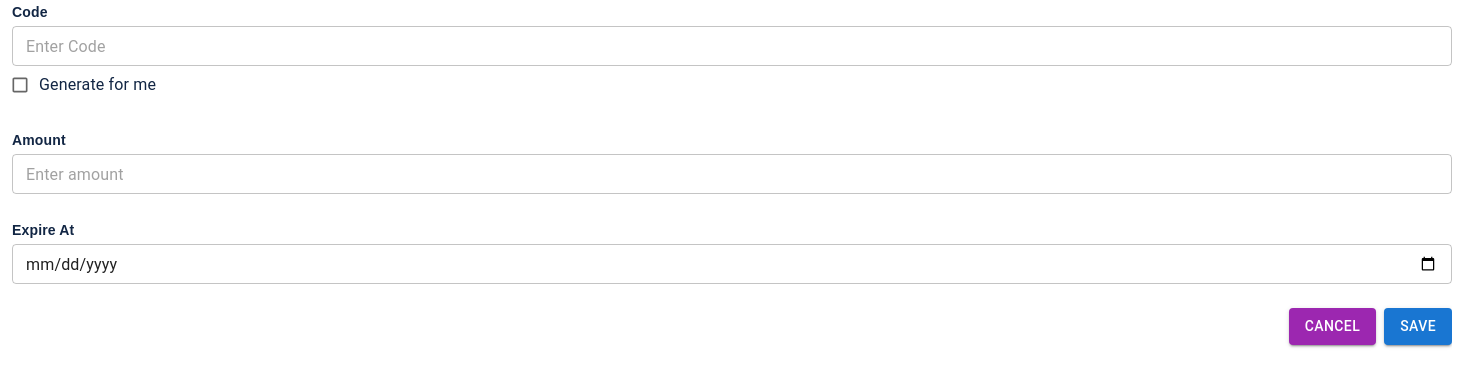
Test case: Voucher form › 409 duplicate_code is shown on the code field, with no pre-check request
Type "SUMMER" into the field with placeholder "Enter Code".
click(732, 46); type("SUMMER")  # box x1=12 y1=26 x2=1452 y2=66
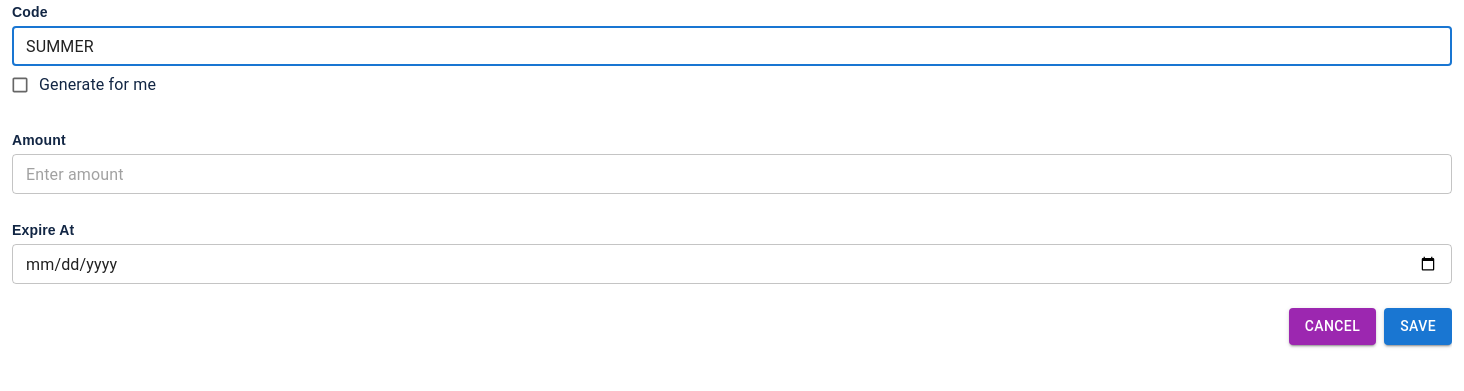
Type "10" into the number field with placeholder "Enter amount".
click(721, 174); type("10")  # box x1=12 y1=154 x2=1430 y2=194
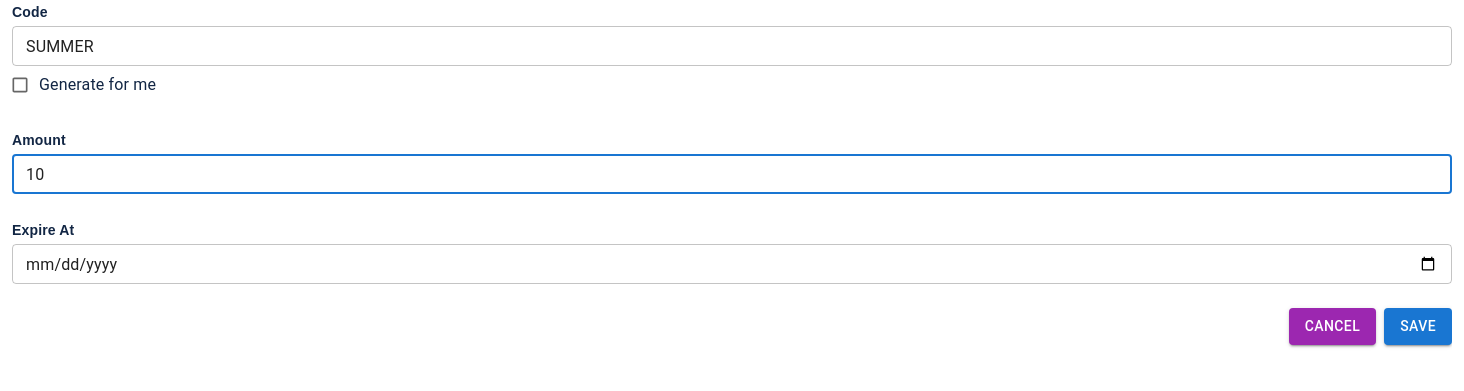
Type "2099-01-01" into the date field with placeholder "Select expiry date".
click(732, 264); type("2099-01-01")  # box x1=12 y1=244 x2=1452 y2=284
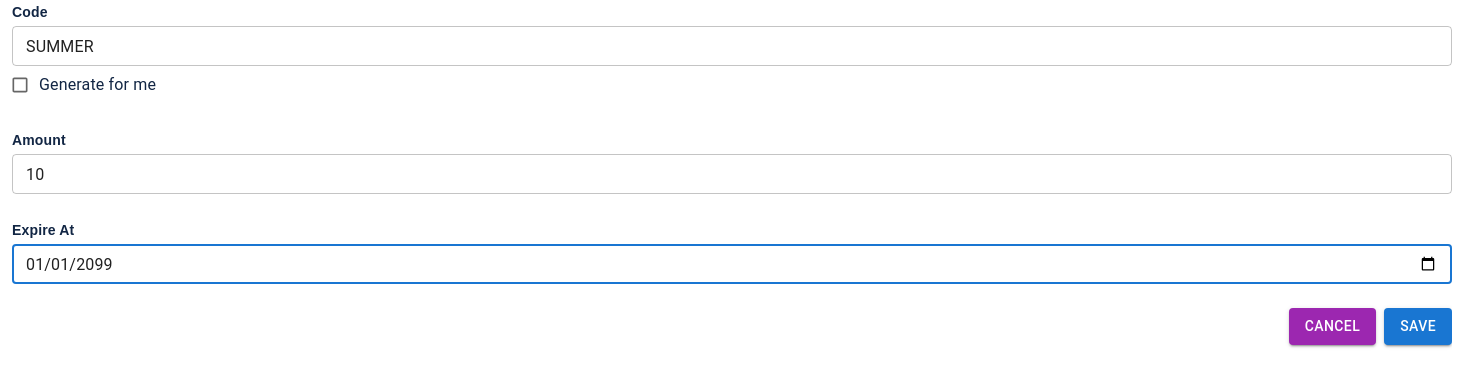
Click the button "Save".
click(1418, 326)  # box x1=1384 y1=308 x2=1452 y2=344
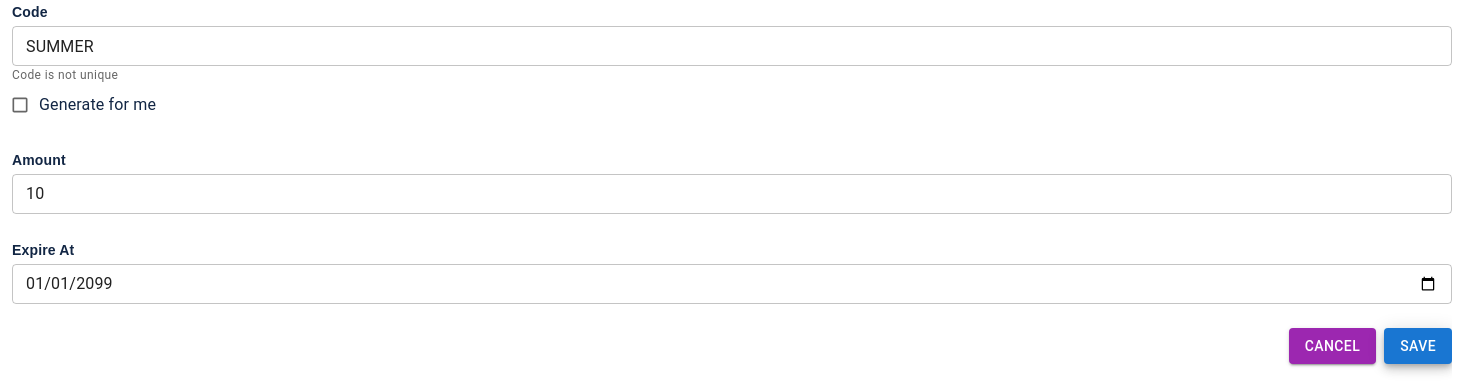
Now the text "Code is not unique" is shown, box x1=12 y1=68 x2=118 y2=82
